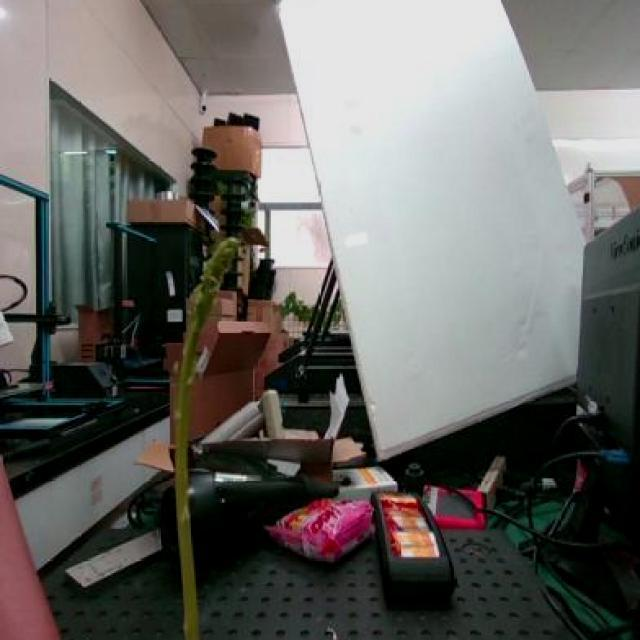aspargus: (171, 233, 244, 640)
